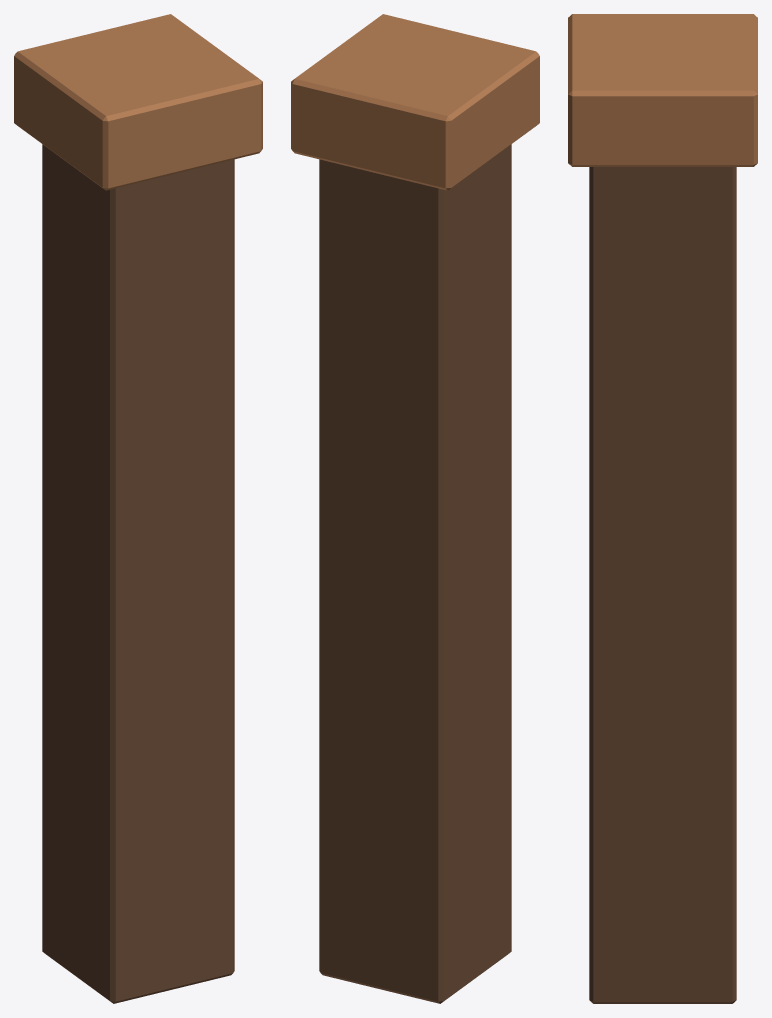
File: wood_fence_end_01.glb
3 renders of one model, left to right at view 1: azimuth 30°, elevation 25°; view 2: azimuth 150°, elevation 25°; view 3: azimuth 270°, elevation 25°, orthographic. The views are drawn at different scales.
Visible parts, largest first — view 1: wood_fence_end_01; view 2: wood_fence_end_01; view 3: wood_fence_end_01.
Boxes of the visible parts, x1,y1,x2,y2 form: wood_fence_end_01: (14,14,262,1003); wood_fence_end_01: (291,14,539,1003); wood_fence_end_01: (568,14,757,1003).
Bounding box in the file's own units: 0.18 × 0.965 × 0.18.
